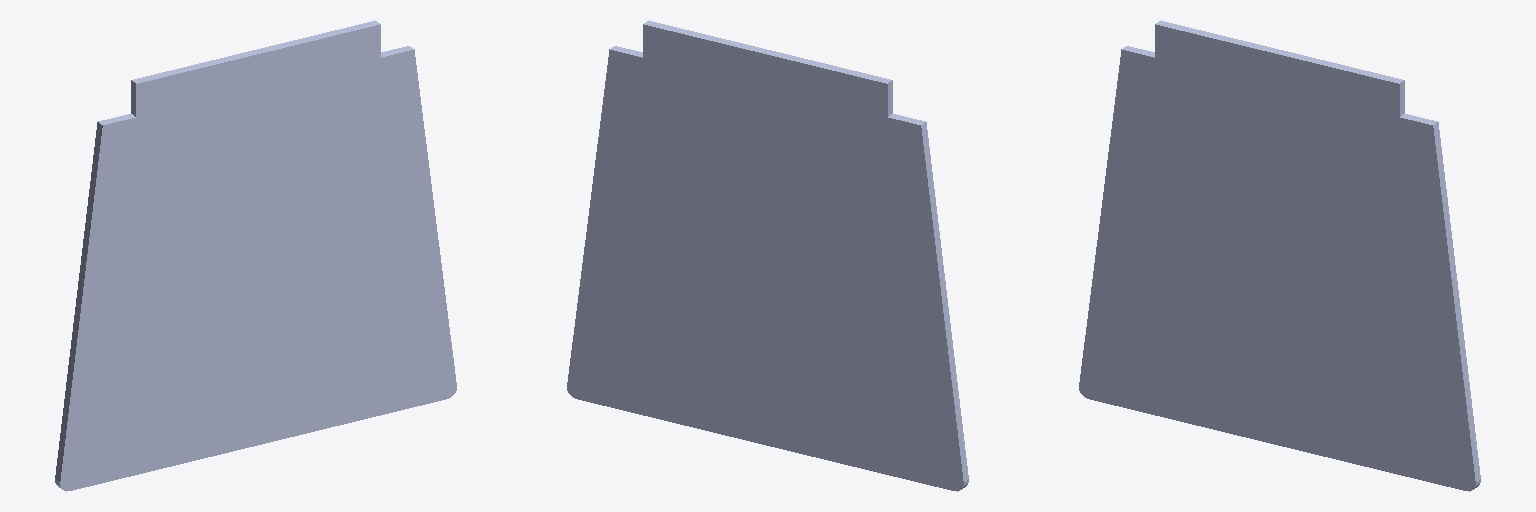
The robot description file, URDF, robot "part1":
<?xml version="1.0" encoding="utf-8"?>
<!-- This URDF was automatically created by SolidWorks to URDF Exporter! Originally created by [author] ([email redacted]) 
     Commit Version: 1.5.1-0-g916b5db  Build Version: 1.5.7152.31018
     For more information, please see http://wiki.ros.org/sw_urdf_exporter -->
<robot name="part1">
  <link name="part1">
    <inertial>
      <origin
        xyz="1.0071E-17 -0.005 -0.012314"
        rpy="0 0 0" />
      <mass
        value="1.556" />
      <inertia
        ixx="0.021045"
        ixy="6.03120000000001E-20"
        ixz="-1.0532E-18"
        iyy="0.040395"
        iyz="-1.34406004754963E-18"
        izz="0.019376" />
    </inertial>
    <visual>
      <origin
        xyz="0 0 0"
        rpy="1.5707963267949 0 0" />
      <geometry>
        <mesh
          filename="package://cai_env/meshes/part1.STL" />
      </geometry>
      <material
        name="">
        <color
          rgba="0.79216 0.81961 0.93333 1" />
        <textureW
          filename="package://cai_env/textures/" />
      </material>
    </visual>
    <collision>
      <origin
        xyz="0 0 0"
        rpy="1.5707963267949 0 0" />
      <geometry>
        <mesh
          filename="package://cai_env/meshes/part1.STL" />
      </geometry>
    </collision>
  </link>
  <gazebo reference="part1">
    <material>Gazebo/SkyBlue</material>
  </gazebo>
</robot>

--- What the picture shows (computed from the rendered views, not written in the file) ---
Views: 3 orthographic renders of the robot side by side, from view 1: azimuth 30°, elevation 25°; view 2: azimuth 150°, elevation 25°; view 3: azimuth 330°, elevation 25°.
Model part1 with 1 links and 0 joints (none), rooted at part1, posed all joints at 0.
Links seen in each view (by area): view 1: part1; view 2: part1; view 3: part1.
Boxes of the visible links, box(x1,y1,x2,y2) form: part1: box(55, 20, 456, 491); part1: box(567, 20, 968, 491); part1: box(1079, 20, 1480, 491).
Size in the robot's own frame: 0.4352 by 0.01 by 0.41 metres.
Meshes: 1 distinct files referenced, 1 mesh visuals loaded (1 binary STL).
